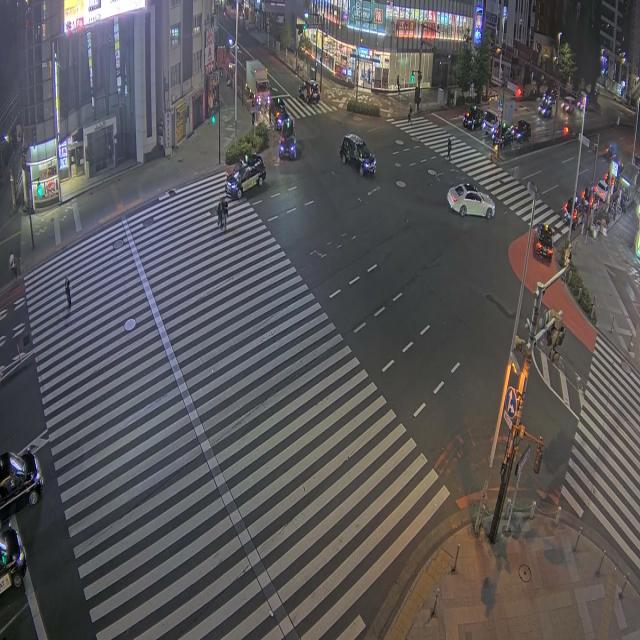car: (0, 525, 26, 592), (225, 159, 265, 199), (447, 184, 494, 218), (340, 134, 375, 175), (279, 116, 296, 159), (534, 224, 553, 261), (563, 202, 585, 228), (491, 123, 513, 148), (269, 98, 286, 130), (462, 105, 483, 130), (298, 81, 320, 103), (562, 195, 579, 222), (481, 110, 497, 135), (513, 120, 530, 141), (594, 180, 608, 202), (538, 97, 553, 117), (603, 143, 617, 161), (241, 154, 262, 166), (561, 96, 574, 113), (575, 96, 587, 111), (543, 88, 556, 100)
truck: (246, 60, 269, 104), (488, 97, 514, 126)
